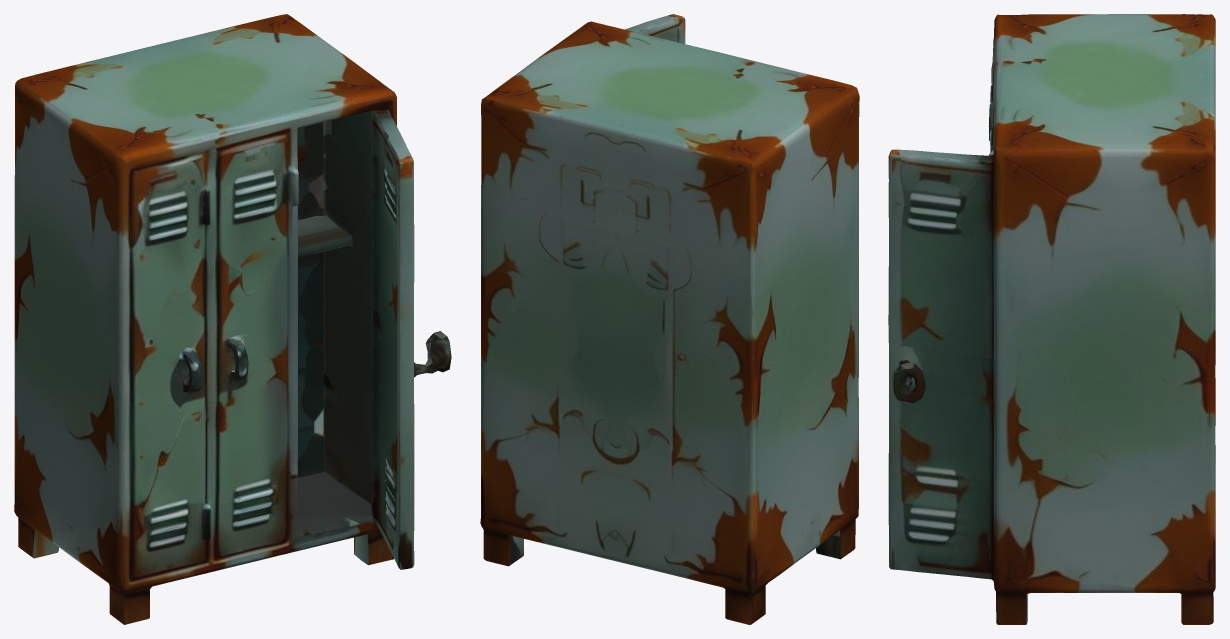
The model's file is ruin_locker.glb.
3 views of the same model, side by side, from view 1: azimuth 30°, elevation 25°; view 2: azimuth 150°, elevation 25°; view 3: azimuth 270°, elevation 25° (orthographic). The views are drawn at different scales.
Visible parts, largest first — view 1: ruin_locker; view 2: ruin_locker; view 3: ruin_locker.
Boxes of the visible parts, bbox=[...] form: ruin_locker: bbox=[14, 14, 451, 624]; ruin_locker: bbox=[480, 14, 859, 624]; ruin_locker: bbox=[888, 14, 1215, 624].
Bounding box in the file's own units: 0.6334 × 1 × 0.6179.
Materials: 1 (1 with a texture image).
